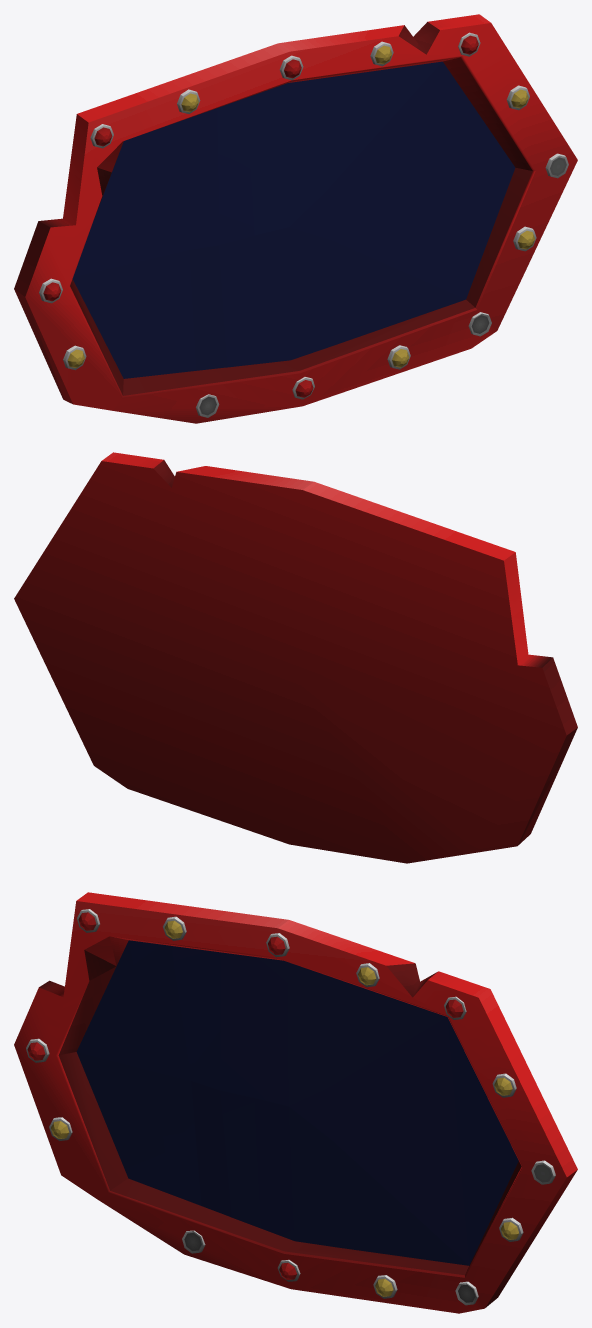
File: OBJ_Scoreboard.fbx
3 views of the same model, one above another, from view 1: azimuth 30°, elevation 25°; view 2: azimuth 150°, elevation 25°; view 3: azimuth 330°, elevation 25° (orthographic).
Parts seen in each view (by area): view 1: ScoreBoard; view 2: ScoreBoard; view 3: ScoreBoard.
Boxes of the visible parts, x1,y1,x2,y2 form: ScoreBoard: (14,14,577,423); ScoreBoard: (14,452,577,863); ScoreBoard: (14,892,577,1313).
Bounding box in the file's own units: 493 × 305 × 26.39.
